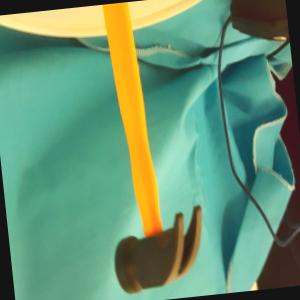martelo: (84, 0, 211, 295)
